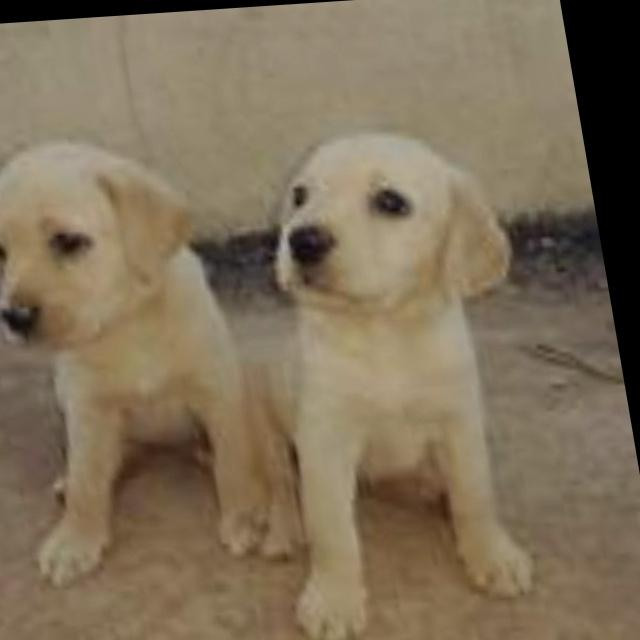dog: (215, 96, 632, 640), (0, 107, 292, 598)
